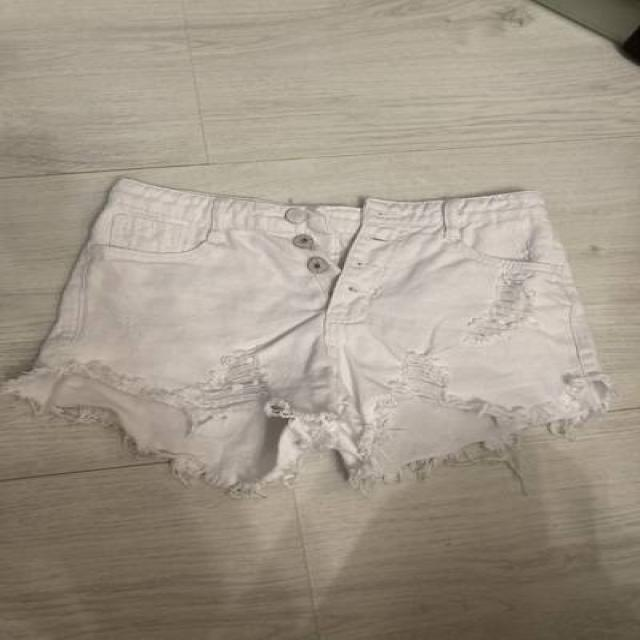Clothes -Biodegradable-: (13, 184, 602, 484)
